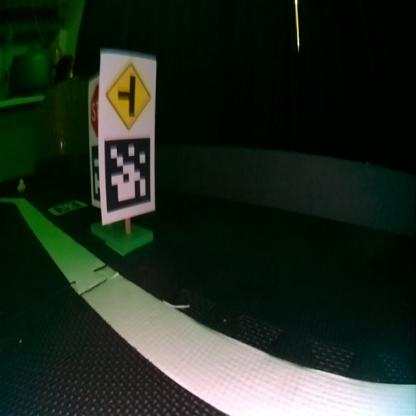Duckie: (17, 178, 25, 190)
Intersection sign: (100, 55, 155, 131)
QR code: (101, 136, 154, 220), (47, 199, 86, 213)
Stop sign: (88, 82, 106, 136)
